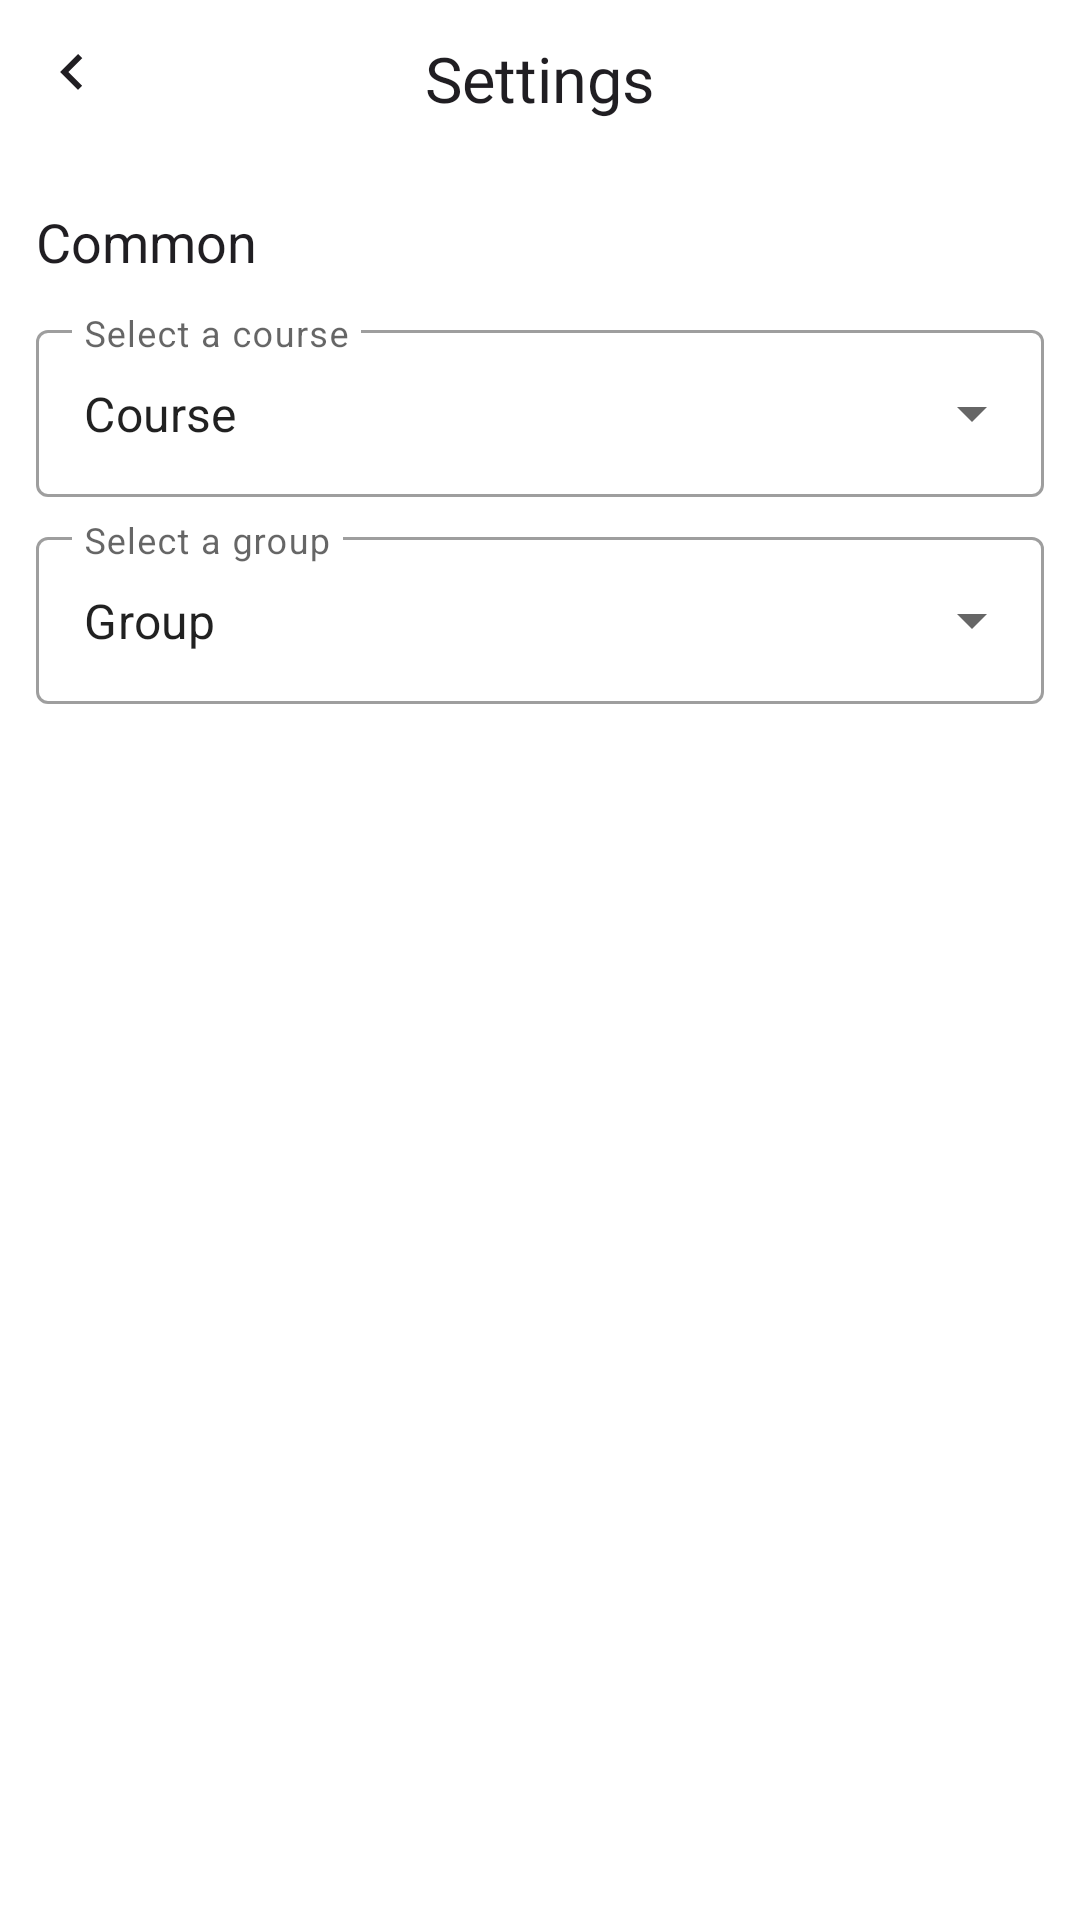

Screen size 1080*1920. Icon name, then its center in pixels as point (x, y):
back: point (71, 72)
